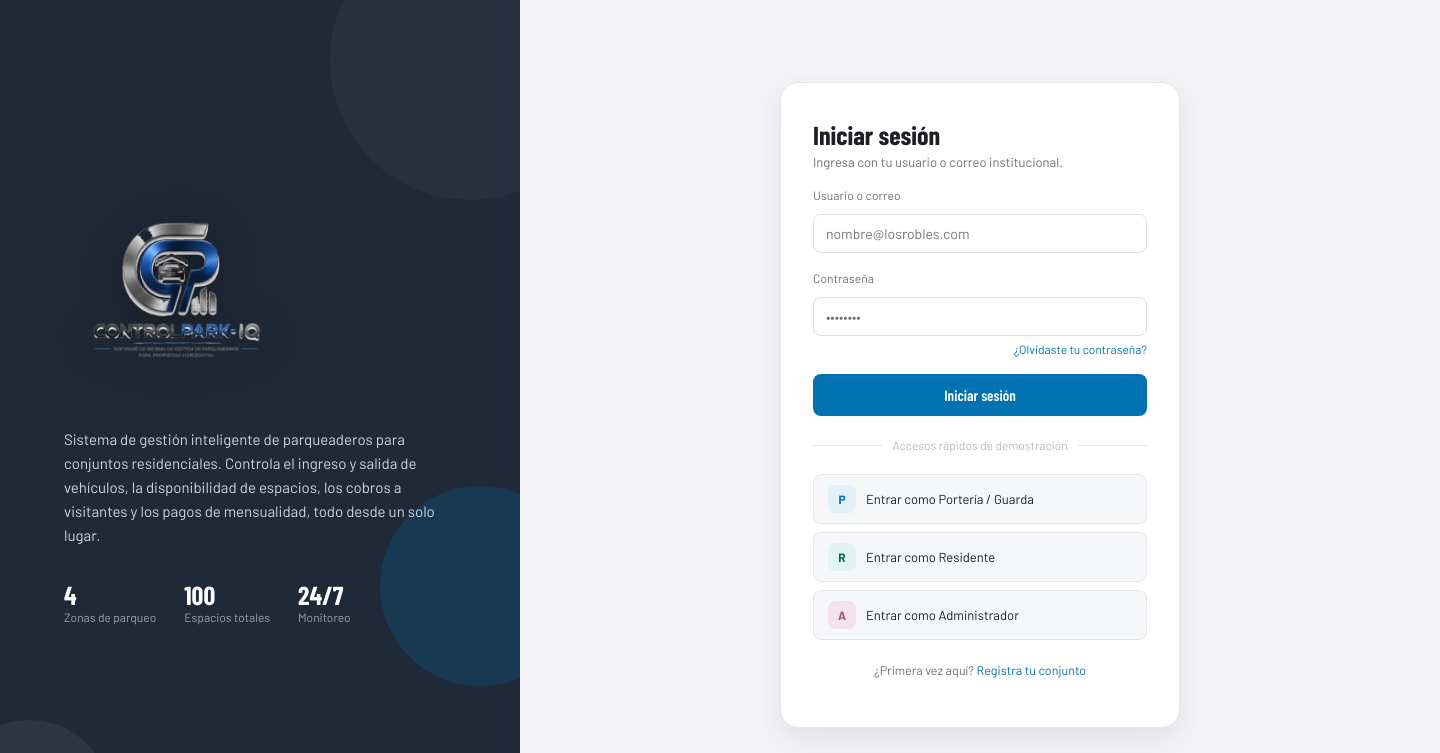
Test case: navegación por rol › Portería recorre sus cinco pantallas
Click the button "P Entrar como Portería / Guarda" at (980, 499), box [813, 474, 1147, 524]
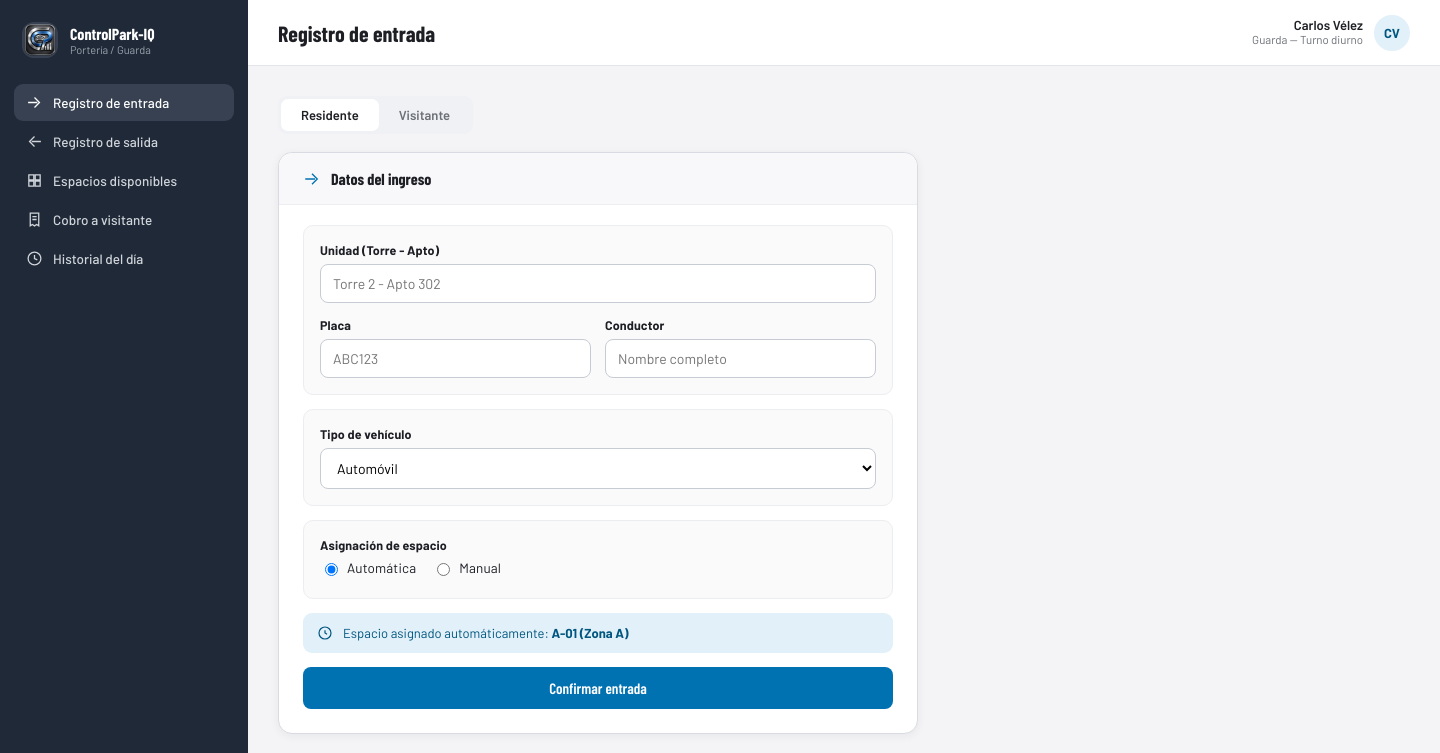
Expected: the heading "Registro de entrada" is shown, [278, 20, 435, 46]
Click the link "Registro de salida" at (92, 142), box [26, 133, 158, 150]
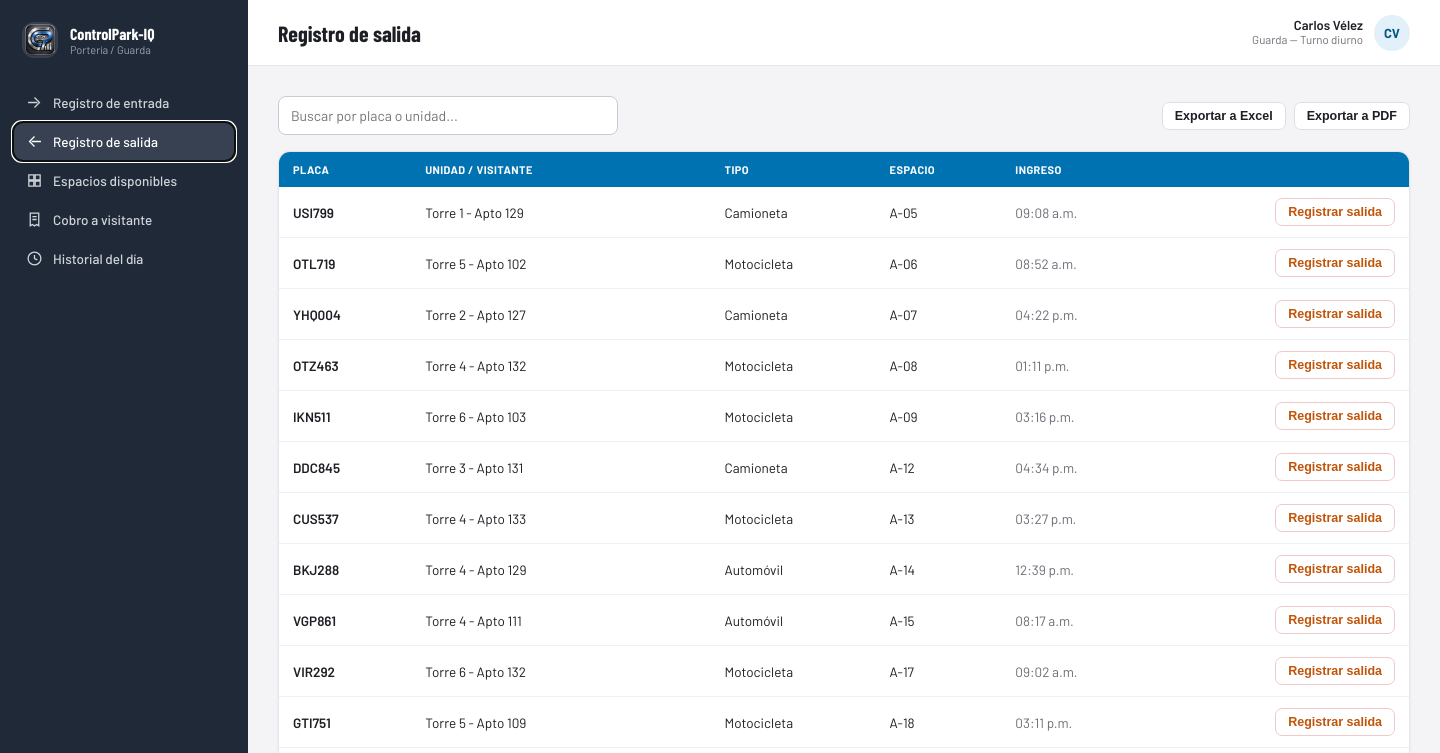
Expected: the heading "Registro de salida" is shown, [278, 20, 421, 46]
Click the link "Espacios disponibles" at (102, 180), box [26, 172, 177, 189]
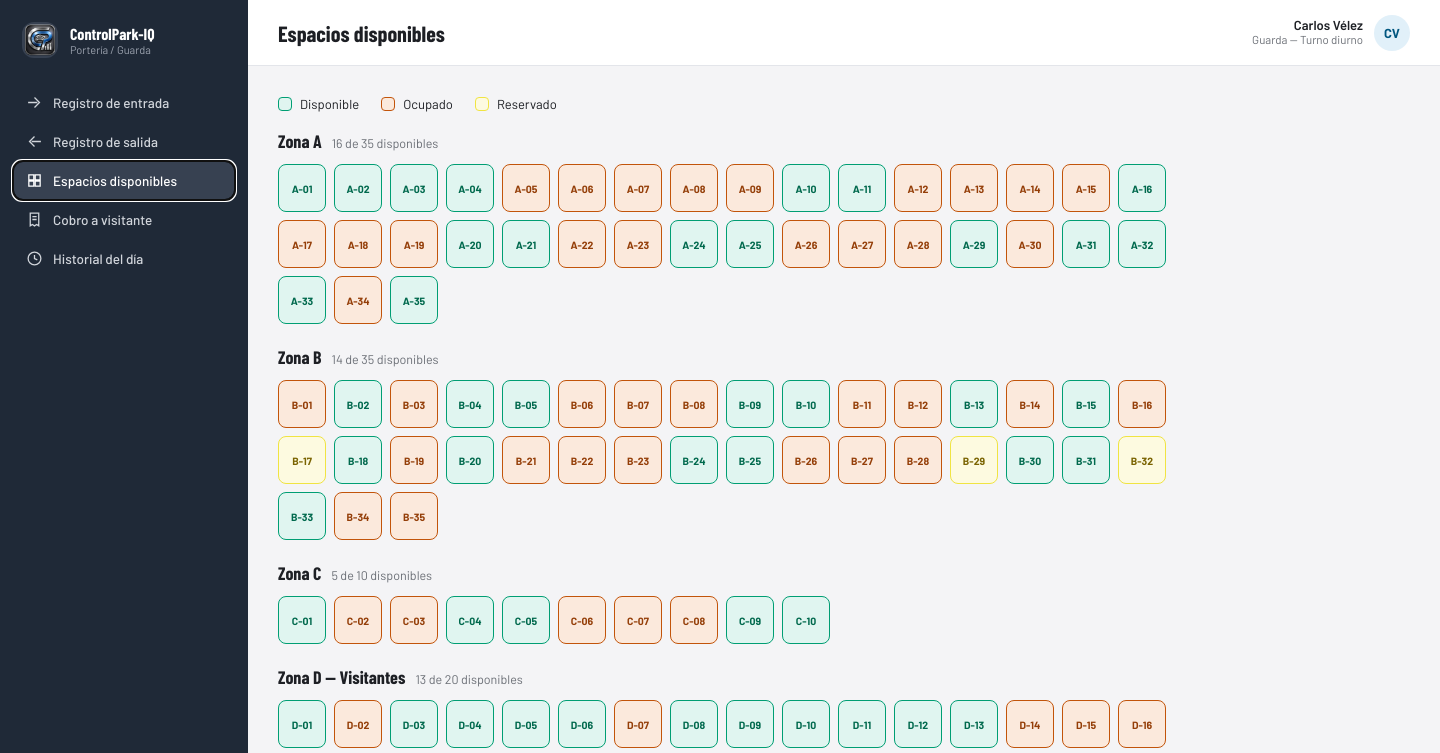
Expected: the heading "Espacios disponibles" is shown, [278, 20, 445, 46]
Click the link "Cobro a visitante" at (89, 220), box [26, 211, 152, 228]
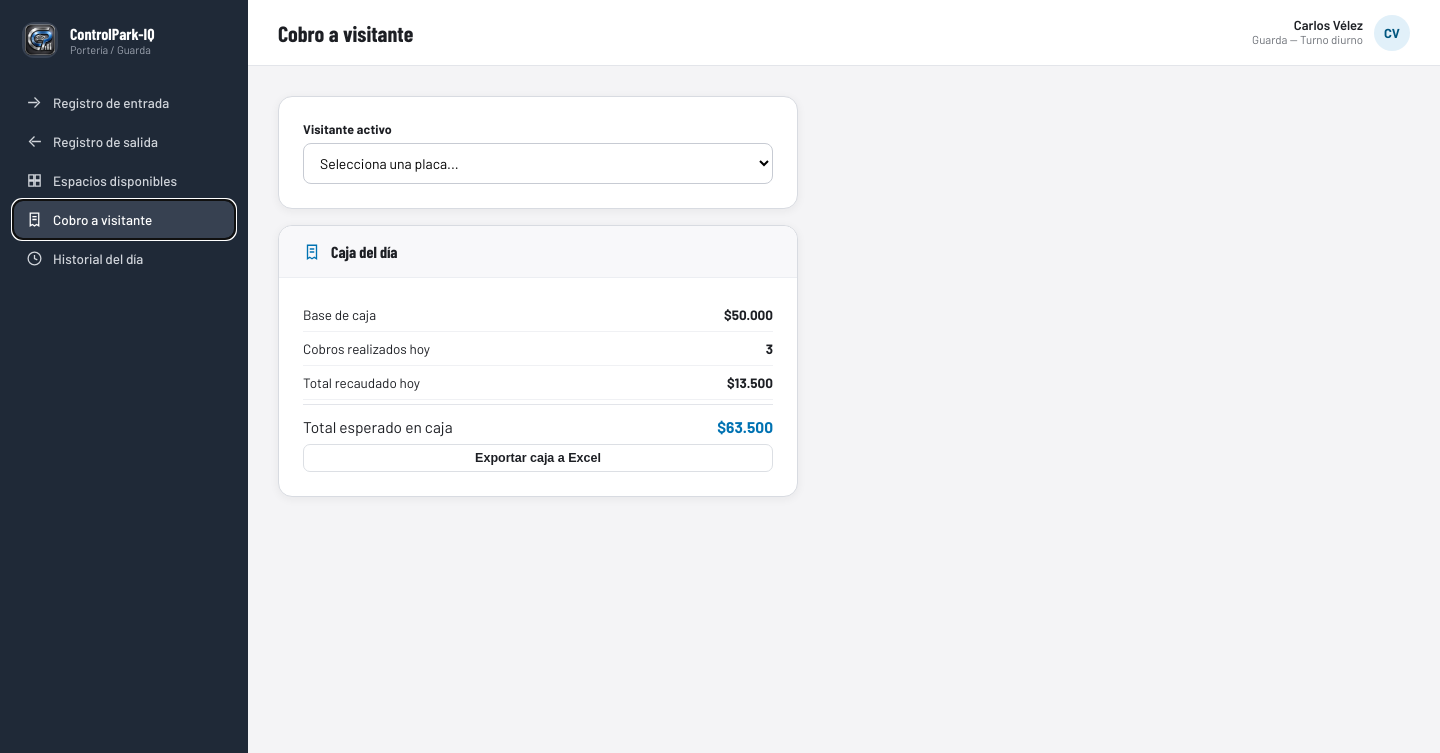
Expected: the heading "Cobro a visitante" is shown, [278, 20, 413, 46]
Click the link "Historial del día" at (85, 258), box [26, 250, 143, 267]
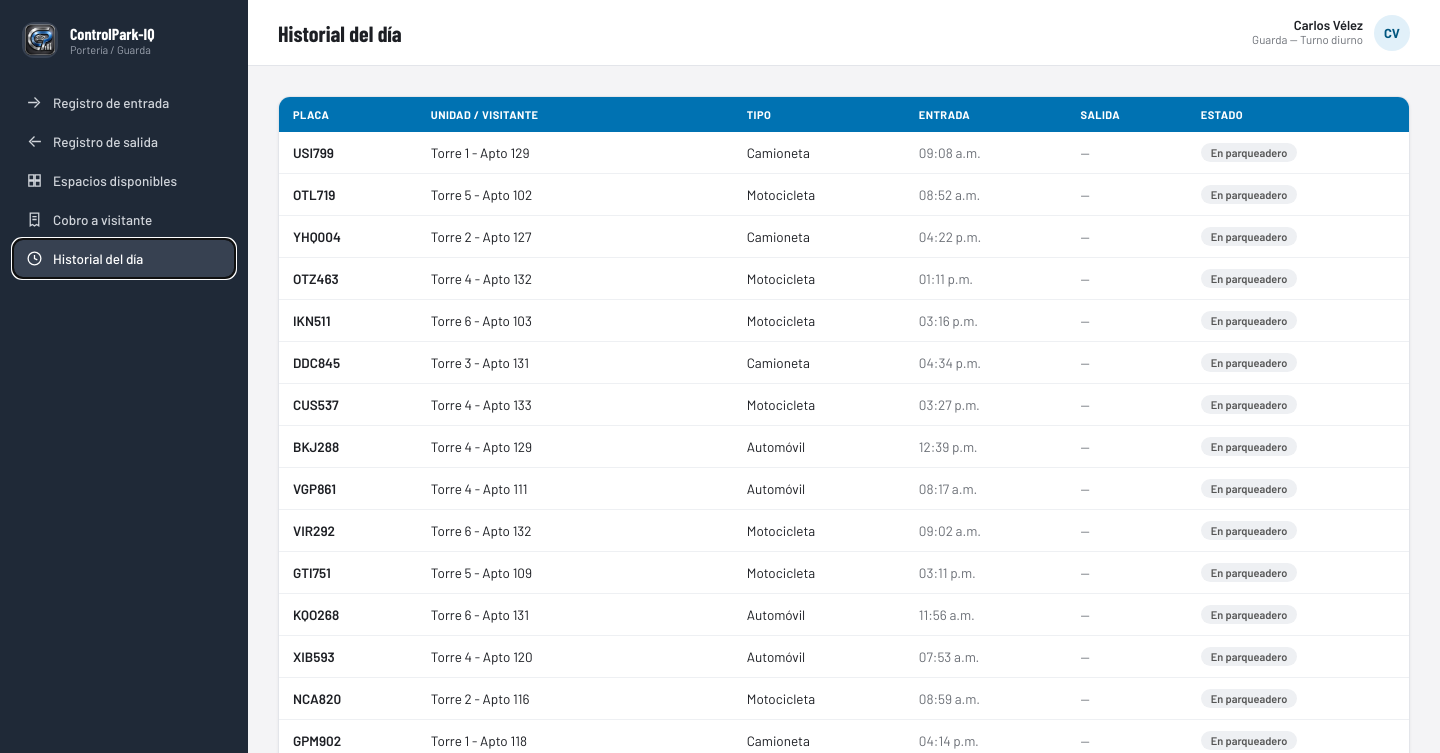
Expected: the heading "Historial del día" is shown, [278, 20, 402, 46]
